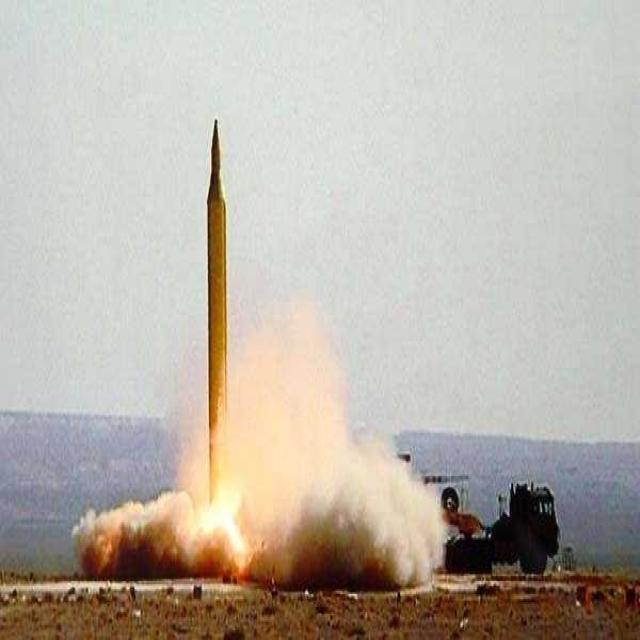missile: (197, 117, 245, 440)
